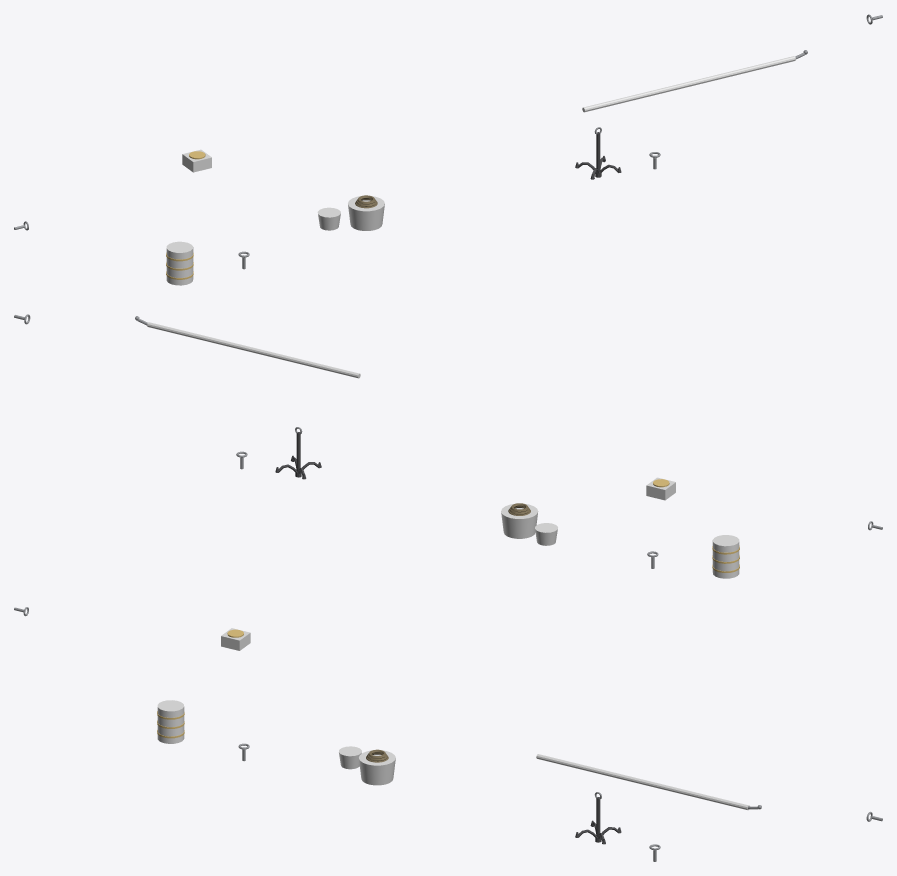
The model's file is Fittings.fbx.
3 renders of one model, top to bottom at view 1: azimuth 30°, elevation 25°; view 2: azimuth 150°, elevation 25°; view 3: azimuth 330°, elevation 25°, orthographic.
Visible parts, largest first — view 1: Fittings; view 2: Fittings; view 3: Fittings.
Part boxes in pixels (<box>): Fittings: <box>14,14,882,285</box>; Fittings: <box>14,314,882,578</box>; Fittings: <box>14,607,882,861</box>.
Bounding box in the file's own units: 7.81 × 0.9206 × 0.7639.
